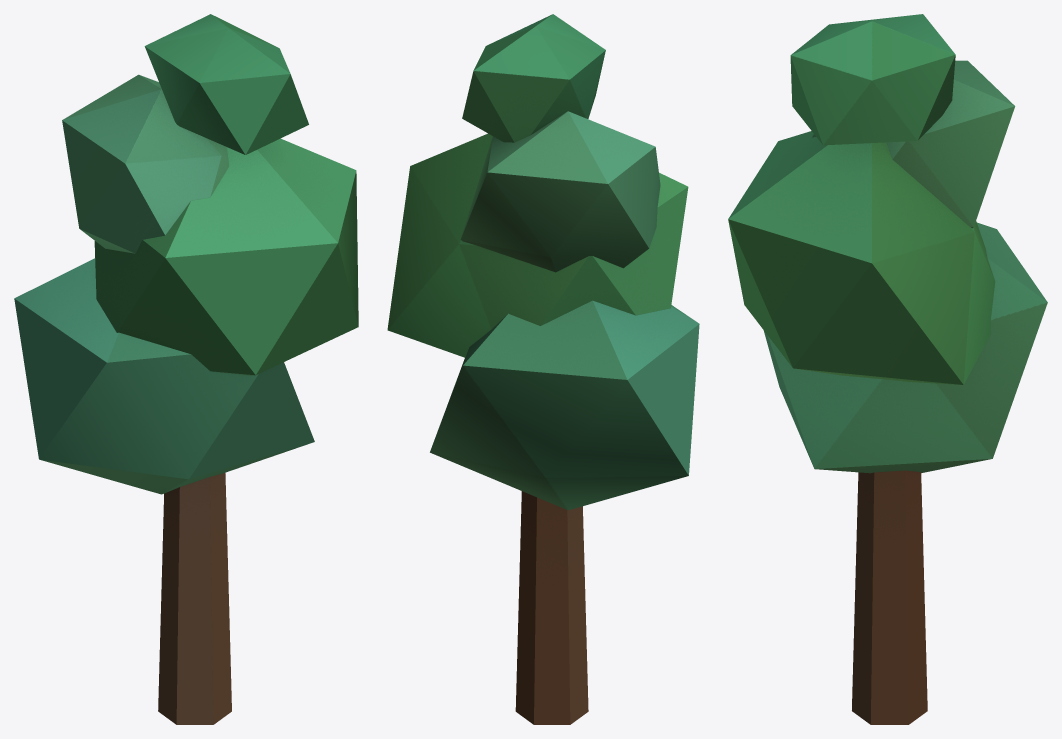
File: scenery_tree_3.fbx
3 renders of one model, left to right at view 1: azimuth 30°, elevation 25°; view 2: azimuth 150°, elevation 25°; view 3: azimuth 270°, elevation 25°, orthographic. The views are drawn at different scales.
Parts seen in each view (by area): view 1: scenery_tree_3_body; view 2: scenery_tree_3_body; view 3: scenery_tree_3_body.
Boxes of the visible parts, left/top/right/bottom form: scenery_tree_3_body: left=14, top=14, right=358, bottom=724; scenery_tree_3_body: left=387, top=14, right=699, bottom=724; scenery_tree_3_body: left=728, top=14, right=1047, bottom=724.
Size of the model in its own units: 760 by 1653 by 682.
Materials: 1 (1 with a texture image).
